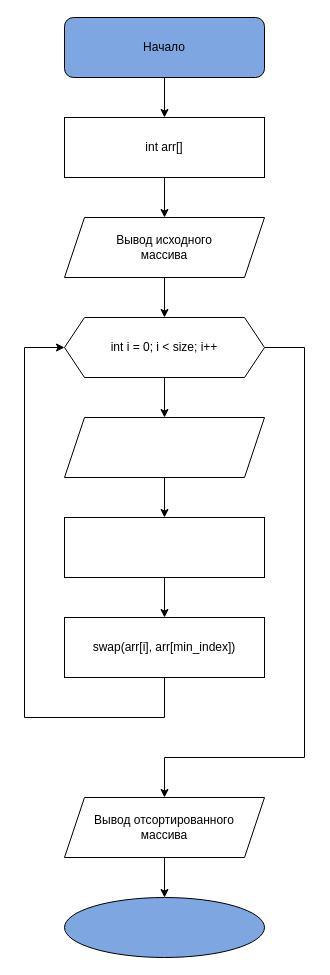
The diagram is 330 pixels wide and 975 high, and some of its shapes have lost their labels. Here are the shapes that lost their labels. From the top down, the centre of each, then its label:
At point (164, 447): "Вывод данной иттерации сортировки".
At point (164, 547): "int min_index = Search_min(arr, i, size)".
At point (164, 927): "Конец".
